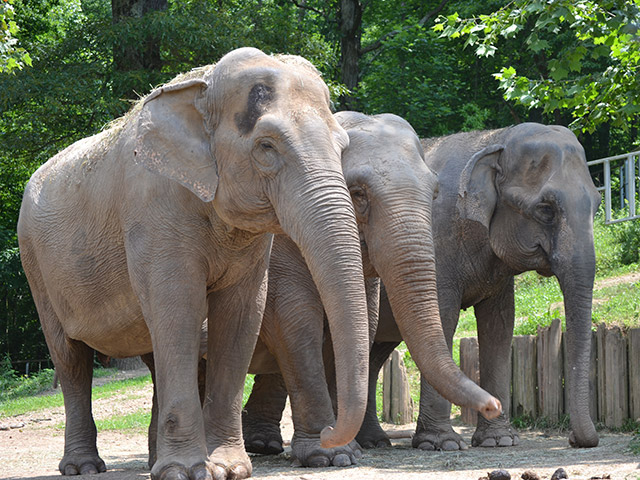elephant: (14, 43, 382, 480), (254, 88, 514, 466), (346, 95, 616, 452)
